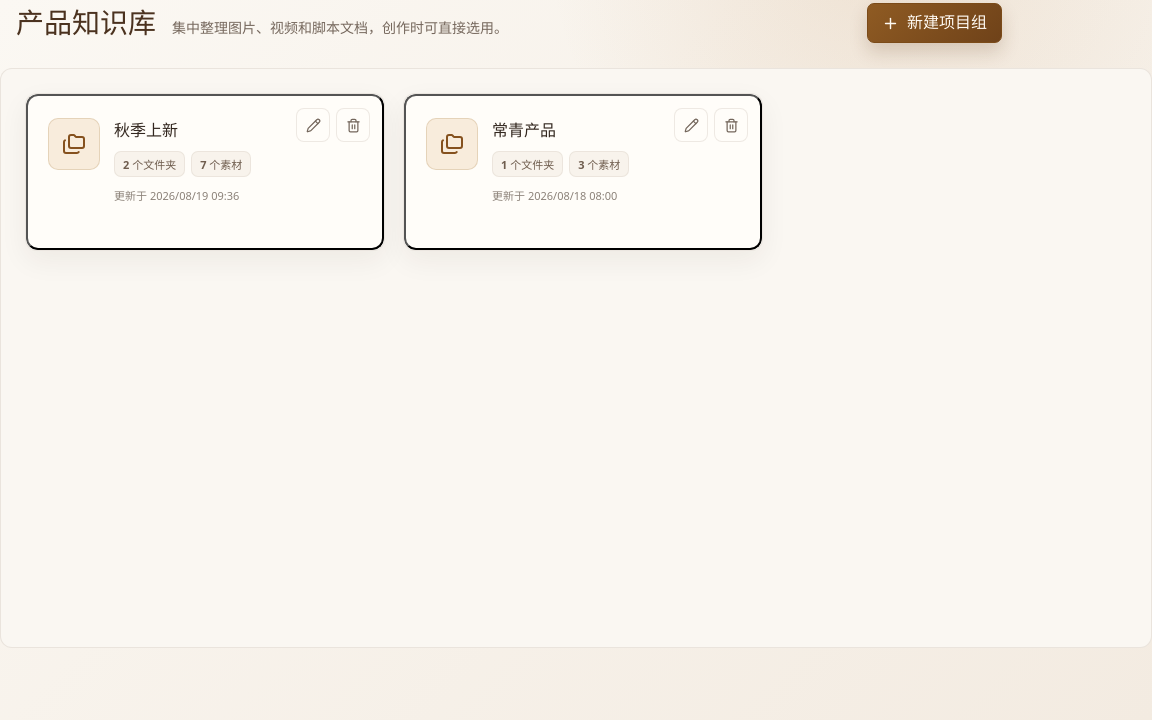
ProductLibraryPage project groups › renames a project group from its card action
This screenshot has width=1152, height=720.
Click the button named "重命名项目组 秋季上新" at (313, 125), box top-left (296, 108), bottom-right (330, 142)
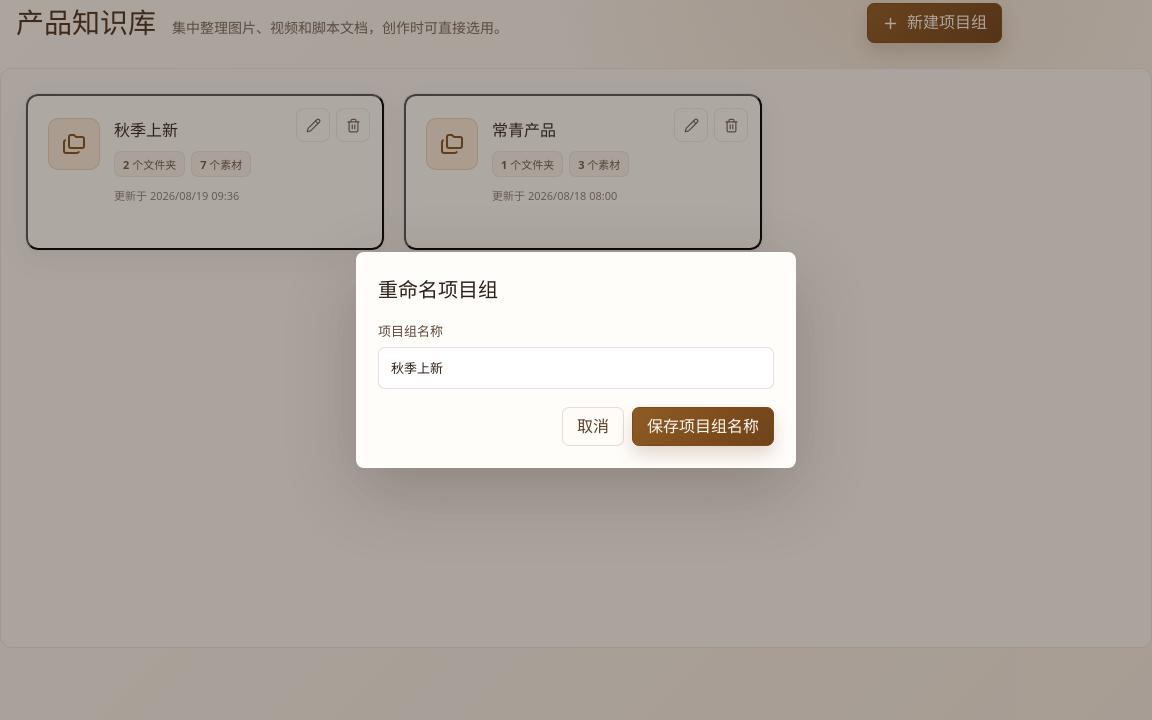
Replace the text in the field labelled "项目组名称" with "秋季上新 2.0" at (576, 368), box top-left (378, 347), bottom-right (774, 389)
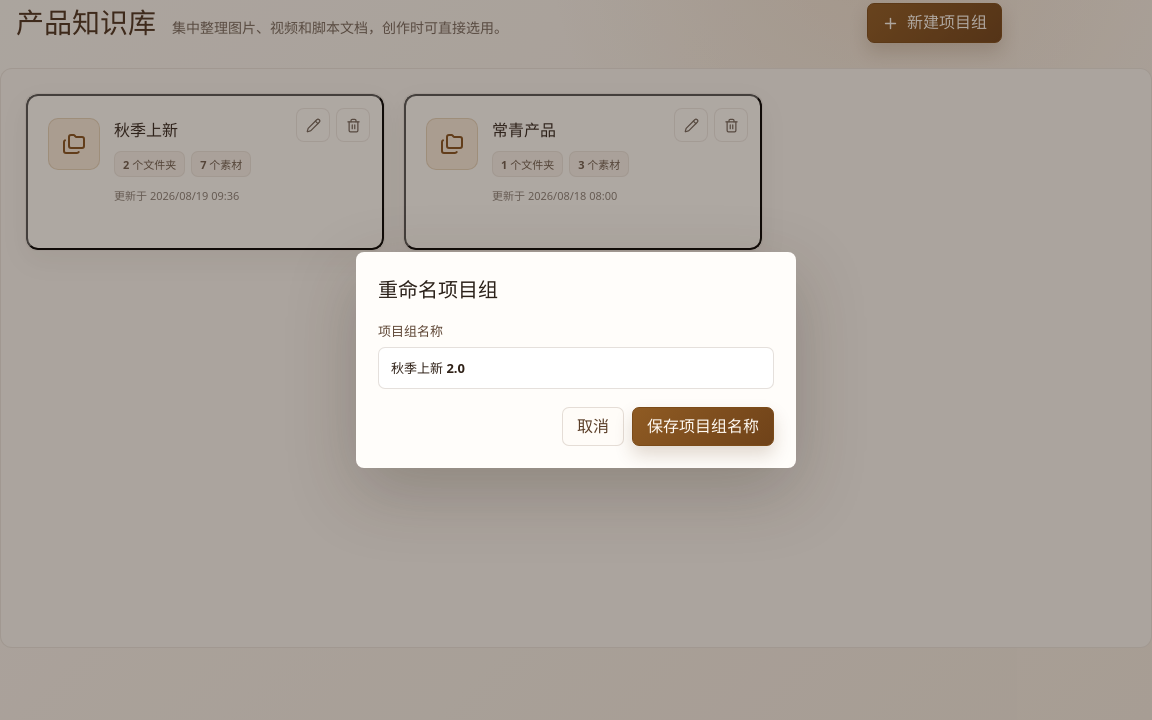
Click the button "保存项目组名称" at (703, 426), box top-left (632, 407), bottom-right (774, 446)
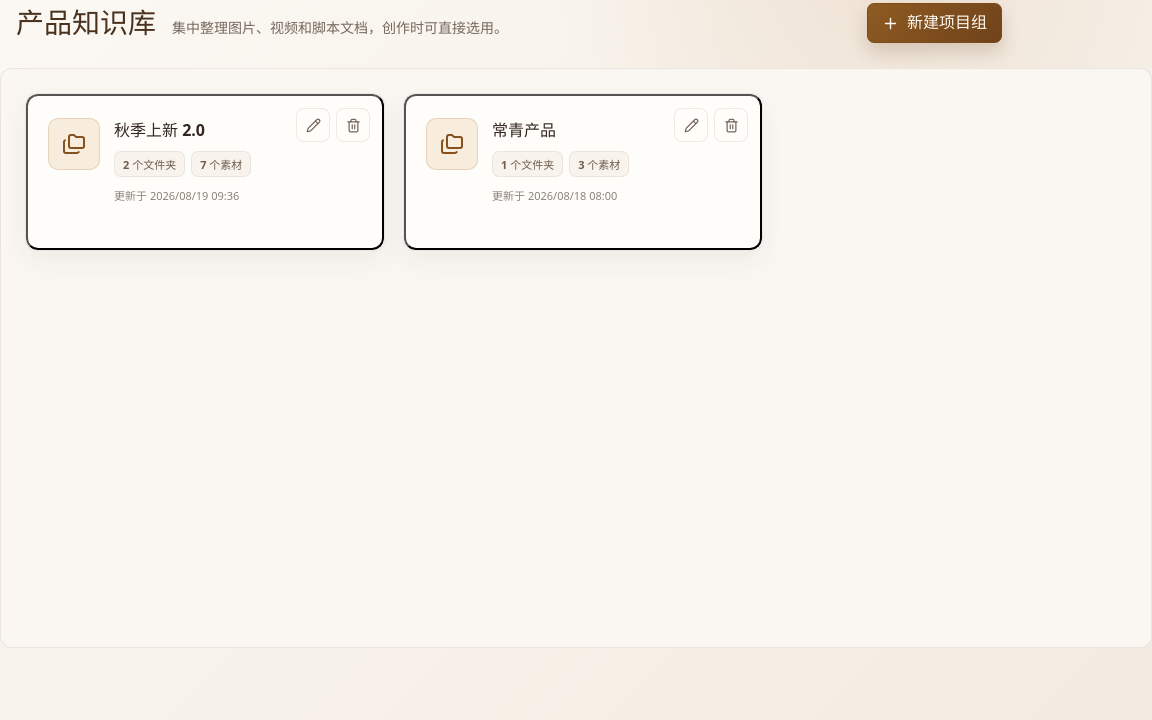
Expected: the button with aria-label "打开项目组 秋季上新 2.0" is shown, top-left (26, 94), bottom-right (384, 250)
